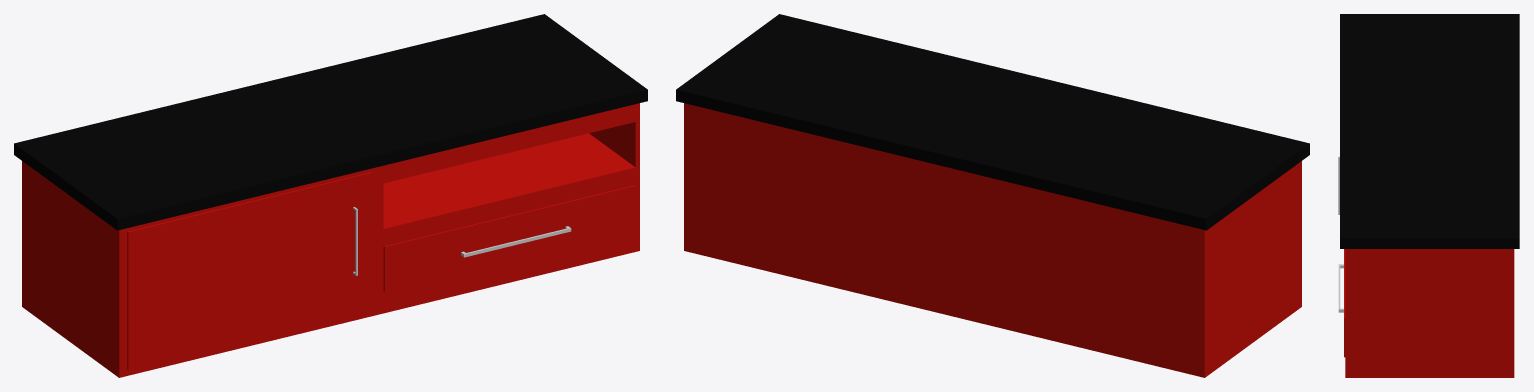
Rendered from Me_Desk_1.fbx.
3 renders of one model, left to right at view 1: azimuth 30°, elevation 25°; view 2: azimuth 150°, elevation 25°; view 3: azimuth 270°, elevation 25°, orthographic. The views are drawn at different scales.
Visible parts, largest first — view 1: Me_Desk_1; view 2: Me_Desk_1; view 3: Me_Desk_1.
Part boxes in pixels (left/top/right/bottom): Me_Desk_1: left=14, top=14, right=647, bottom=377; Me_Desk_1: left=676, top=14, right=1309, bottom=377; Me_Desk_1: left=1338, top=14, right=1519, bottom=377.
Size of the model in its own units: 2535 by 862 by 742.
